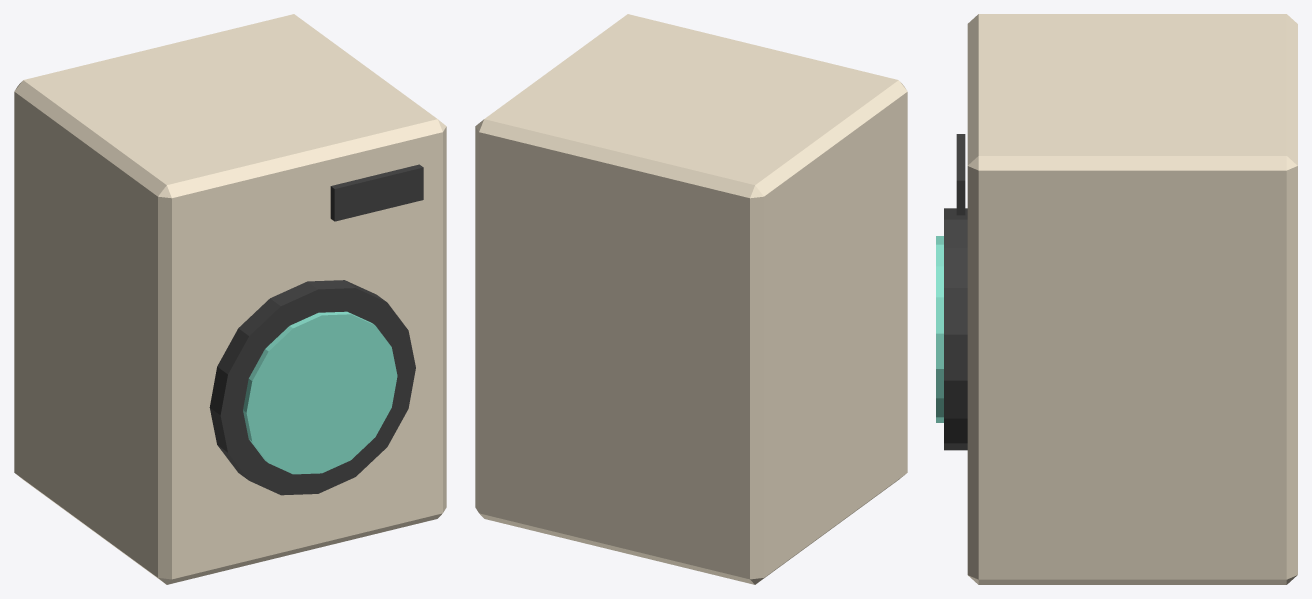
The picture shows the model from 3 angles, left to right: view 1: azimuth 30°, elevation 25°; view 2: azimuth 150°, elevation 25°; view 3: azimuth 270°, elevation 25°; orthographic projection. The views are drawn at different scales.
Visible parts, largest first — view 1: Washing machine, Drum window, Door rim, Readout; view 2: Washing machine; view 3: Washing machine, Door rim, Drum window, Readout.
Part boxes in pixels (x1,y1,x2,y2): Washing machine: (14, 14, 446, 584); Drum window: (243, 311, 397, 474); Door rim: (209, 280, 415, 495); Readout: (330, 164, 423, 221); Washing machine: (475, 14, 907, 584); Washing machine: (967, 14, 1297, 584); Door rim: (944, 208, 967, 450); Drum window: (936, 236, 943, 422); Readout: (956, 134, 965, 215).
Bounding box in the file's own units: 0.65 × 0.86 × 0.657.
1 material, 1 textured.
